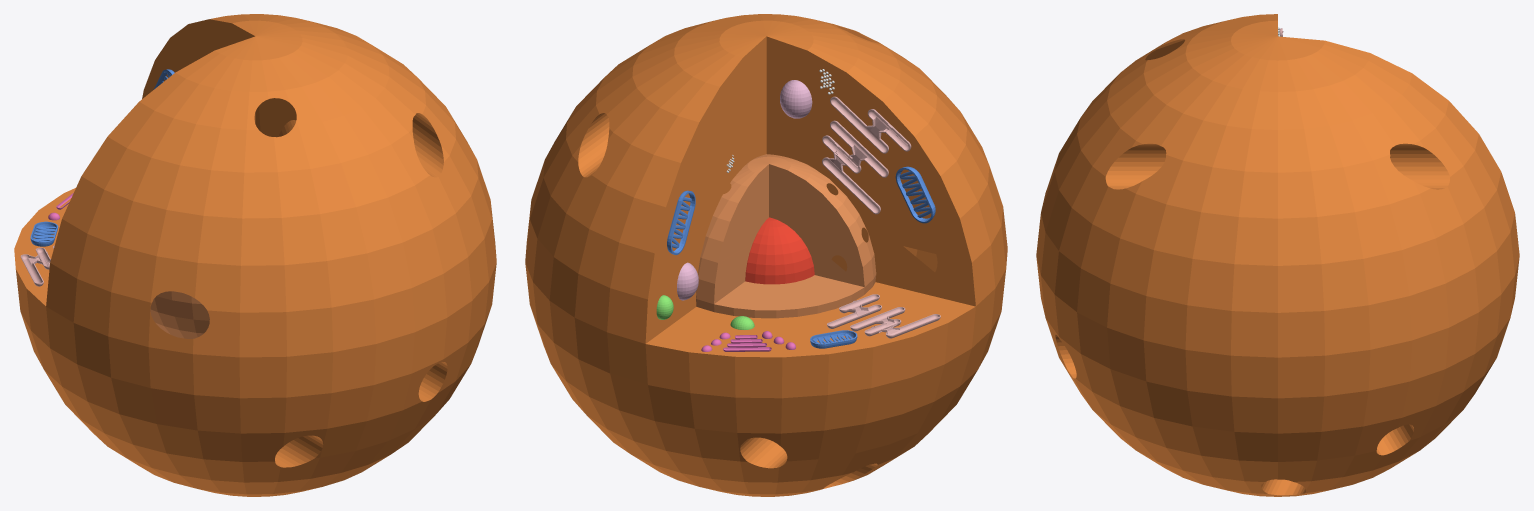
File: selhewan.fbx
The picture shows the model from 3 angles, left to right: view 1: azimuth 30°, elevation 25°; view 2: azimuth 150°, elevation 25°; view 3: azimuth 270°, elevation 25°; orthographic projection.
Visible parts, largest first — view 1: Sphere.001, Sphere.003, Sphere.041; view 2: Sphere.001, Sphere.003, Sphere.042, Sphere, Sphere.041, Sphere.002, Sphere.038, Sphere.004, Sphere.005, Sphere.045, NurbsPath; view 3: Sphere.001.
Boxes of the visible parts, x1=… form: Sphere.001: x1=14, y1=14, x2=496, y2=496; Sphere.003: x1=150, y1=291, x2=209, y2=338; Sphere.041: x1=20, y1=245, x2=54, y2=286; Sphere.001: x1=525, y1=14, x2=1007, y2=496; Sphere.003: x1=696, y1=154, x2=876, y2=318; Sphere.042: x1=822, y1=96, x2=911, y2=214; Sphere: x1=745, y1=217, x2=814, y2=284; Sphere.041: x1=827, y1=294, x2=940, y2=338; Sphere.002: x1=780, y1=80, x2=812, y2=118; Sphere.038: x1=667, y1=190, x2=695, y2=255; Sphere.004: x1=895, y1=166, x2=935, y2=223; Sphere.005: x1=677, y1=262, x2=698, y2=300; Sphere.045: x1=723, y1=335, x2=771, y2=351; NurbsPath: x1=899, y1=171, x2=931, y2=217; Sphere.001: x1=1036, y1=14, x2=1519, y2=496.
Size of the model in its own units: 140 by 140 by 140.
